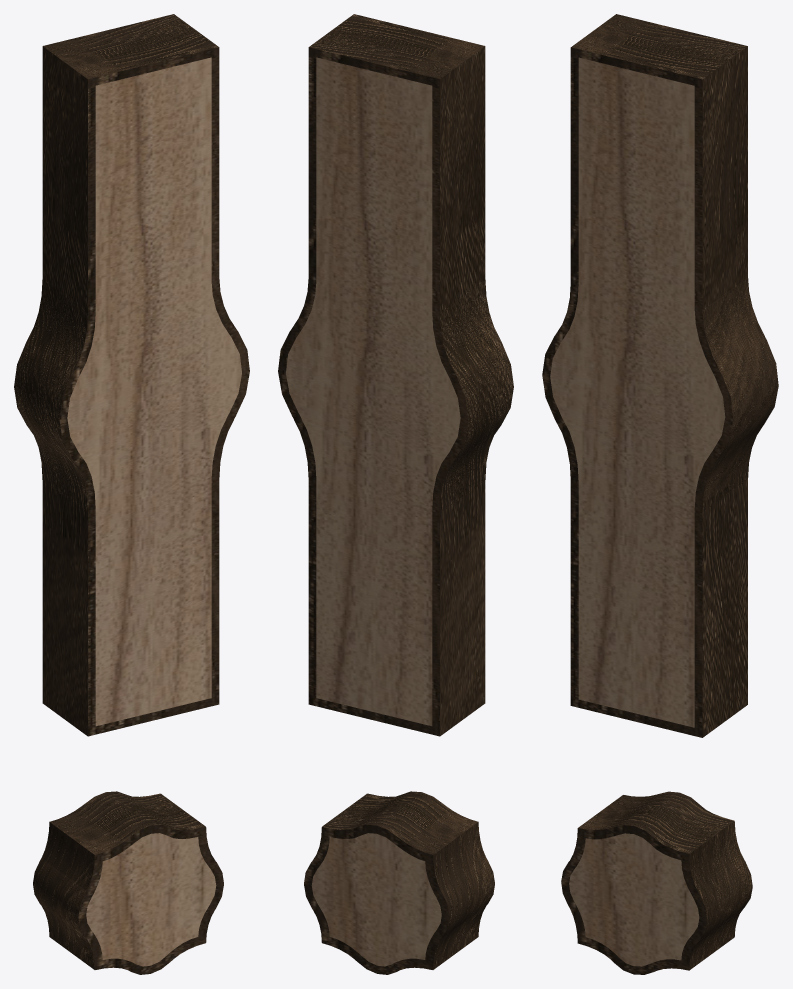
File: Exclamation.FBX
The picture shows the model from 3 angles, left to right: view 1: azimuth 30°, elevation 25°; view 2: azimuth 150°, elevation 25°; view 3: azimuth 330°, elevation 25°; orthographic projection.
Visible parts, largest first — view 1: Exclamation, Exclamation_outline; view 2: Exclamation, Exclamation_outline; view 3: Exclamation, Exclamation_outline.
Part boxes in pixels (left/top/right/bottom): Exclamation: left=67, top=57, right=241, bottom=966; Exclamation_outline: left=14, top=14, right=249, bottom=974; Exclamation: left=286, top=57, right=460, bottom=966; Exclamation_outline: left=278, top=14, right=513, bottom=974; Exclamation: left=550, top=57, right=725, bottom=966; Exclamation_outline: left=542, top=14, right=778, bottom=974.
Size of the model in its own units: 24.21 by 110 by 10.
2 materials, 2 textured.
